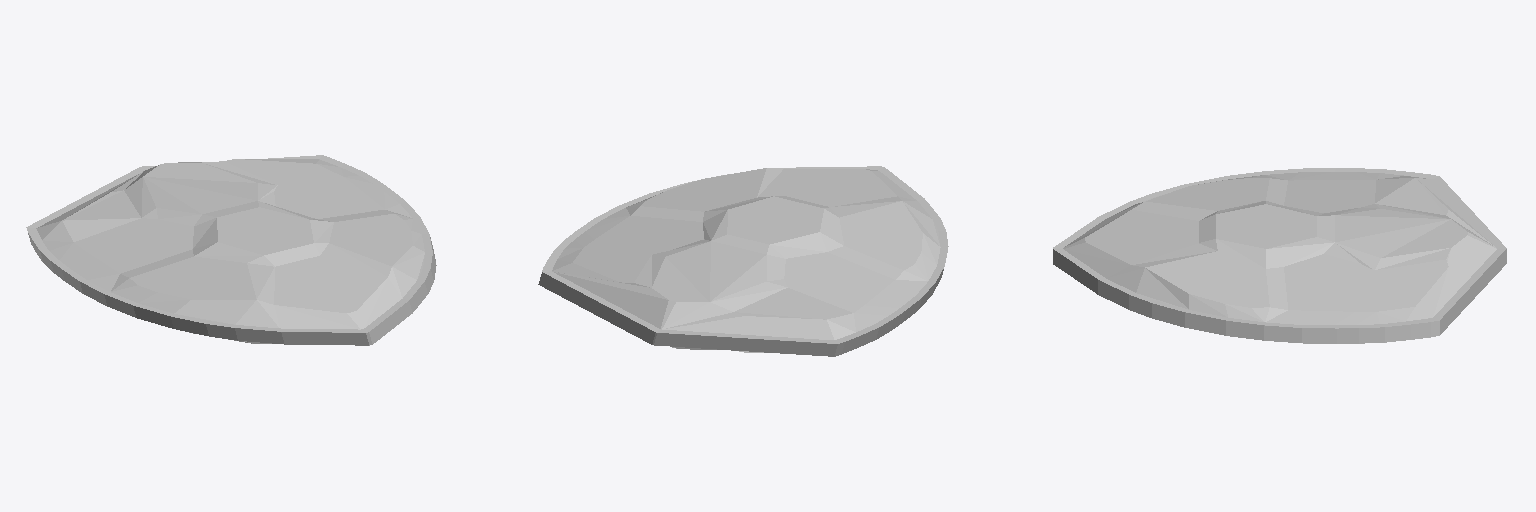
The model's file is tRowShell.obj.
3 renders of one model, left to right at view 1: azimuth 30°, elevation 25°; view 2: azimuth 150°, elevation 25°; view 3: azimuth 270°, elevation 25°, orthographic.
Parts seen in each view (by area): view 1: Plane; view 2: Plane; view 3: Plane.
Part boxes in pixels (x1,y1,x2,y2): Plane: (26,155,436,345); Plane: (538,166,948,356); Plane: (1053,168,1506,343).
Size of the model in its own units: 1.49 by 0.2558 by 1.76.